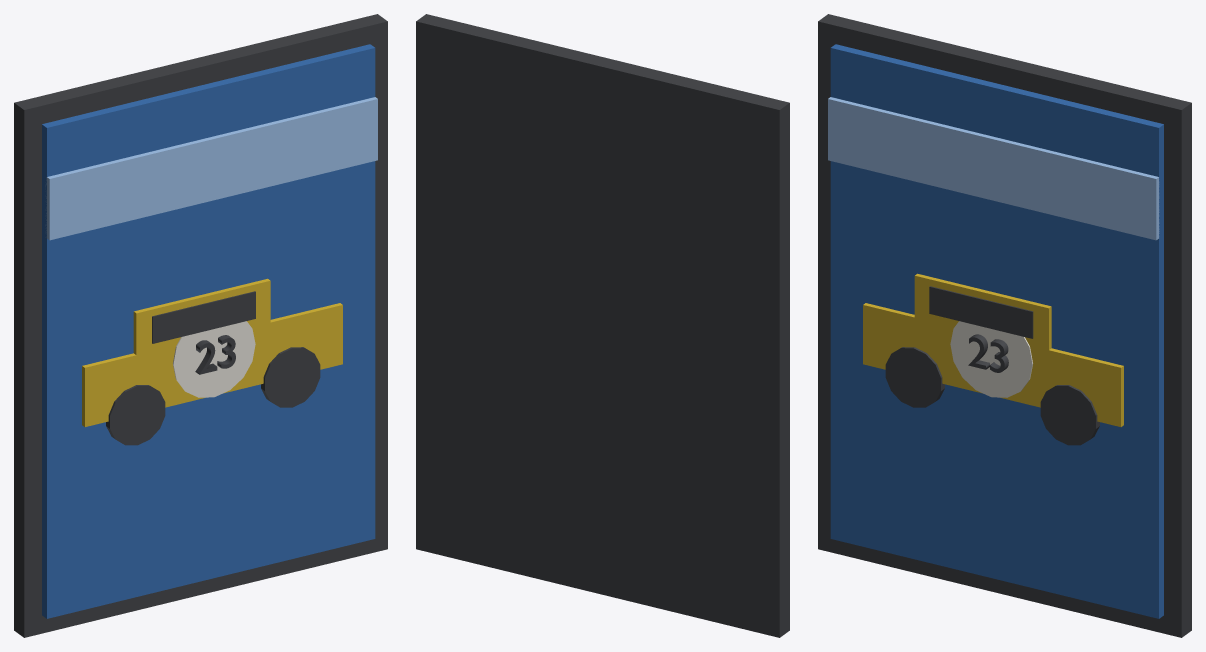
The model's file is poster_blue.glb.
3 views of the same model, side by side, from view 1: azimuth 30°, elevation 25°; view 2: azimuth 150°, elevation 25°; view 3: azimuth 330°, elevation 25° (orthographic).
Visible parts, largest first — view 1: poster_blue; view 2: poster_blue; view 3: poster_blue.
Part boxes in pixels (x1,y1,x2,y2): poster_blue: (14,14,387,637); poster_blue: (416,14,789,637); poster_blue: (818,14,1191,637).
Size of the model in its own units: 0.62 by 0.86 by 0.067.
